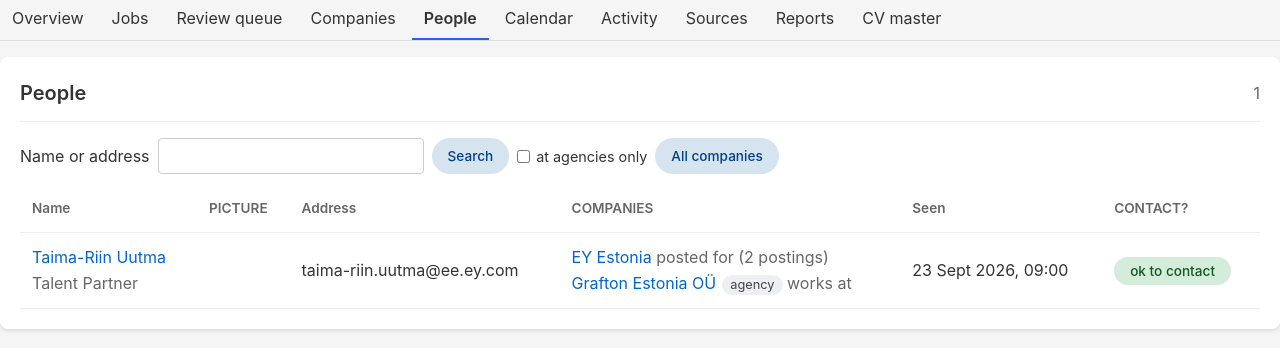
MasiPersons › asks the server with the URL: a search, the agency filter and one company, each starting on page one
Check: the link "Taima-Riin Uutma" is shown, box [32,247,166,267]
Step 1. Type "uutma" into the search field labelled "Name or address" → (291, 156), box [158,138,424,174]
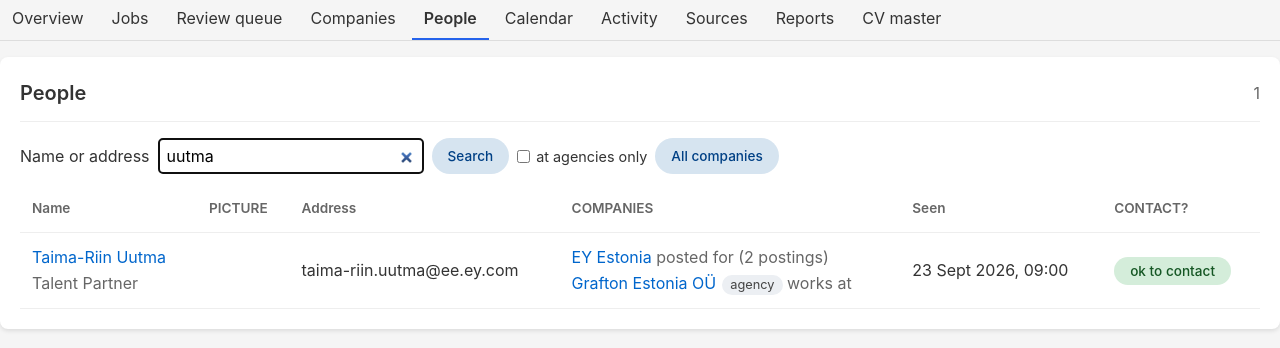
Step 2. Click the button "Search" → (470, 156), box [432,138,509,174]
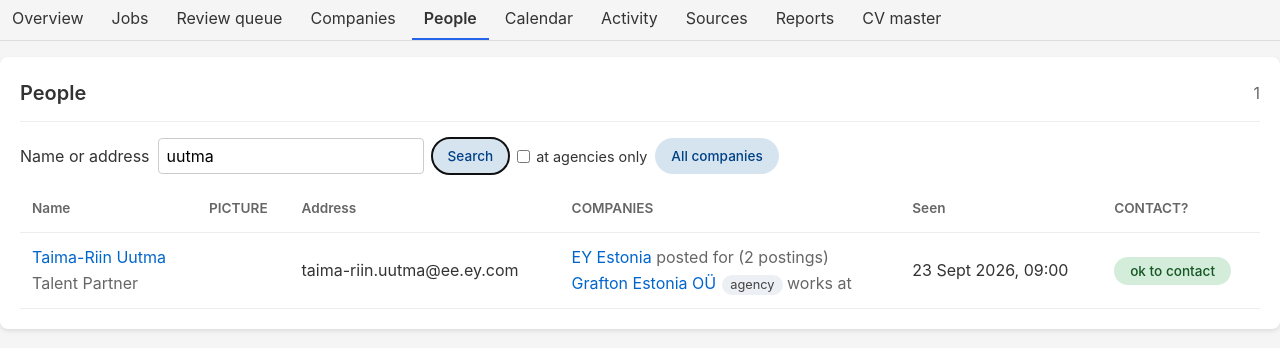
Step 3. Click the checkbox labelled "at agencies only" → (524, 156), box [517,150,530,163]
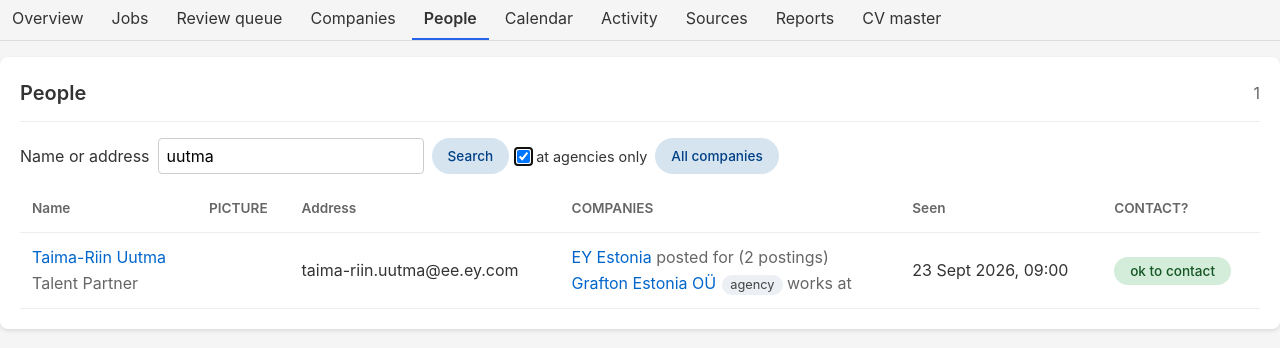
Step 4. Click the button "All companies" → (717, 156), box [655,138,779,174]
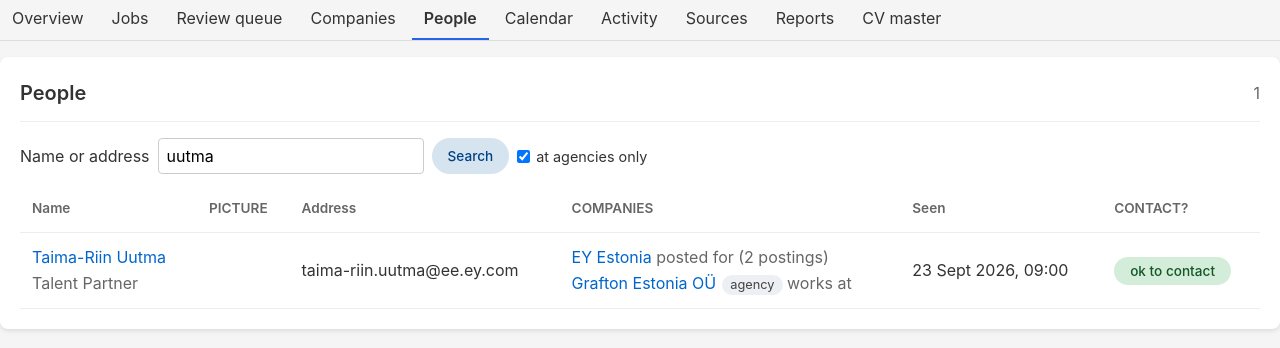
Check: the button "All companies" is gone
